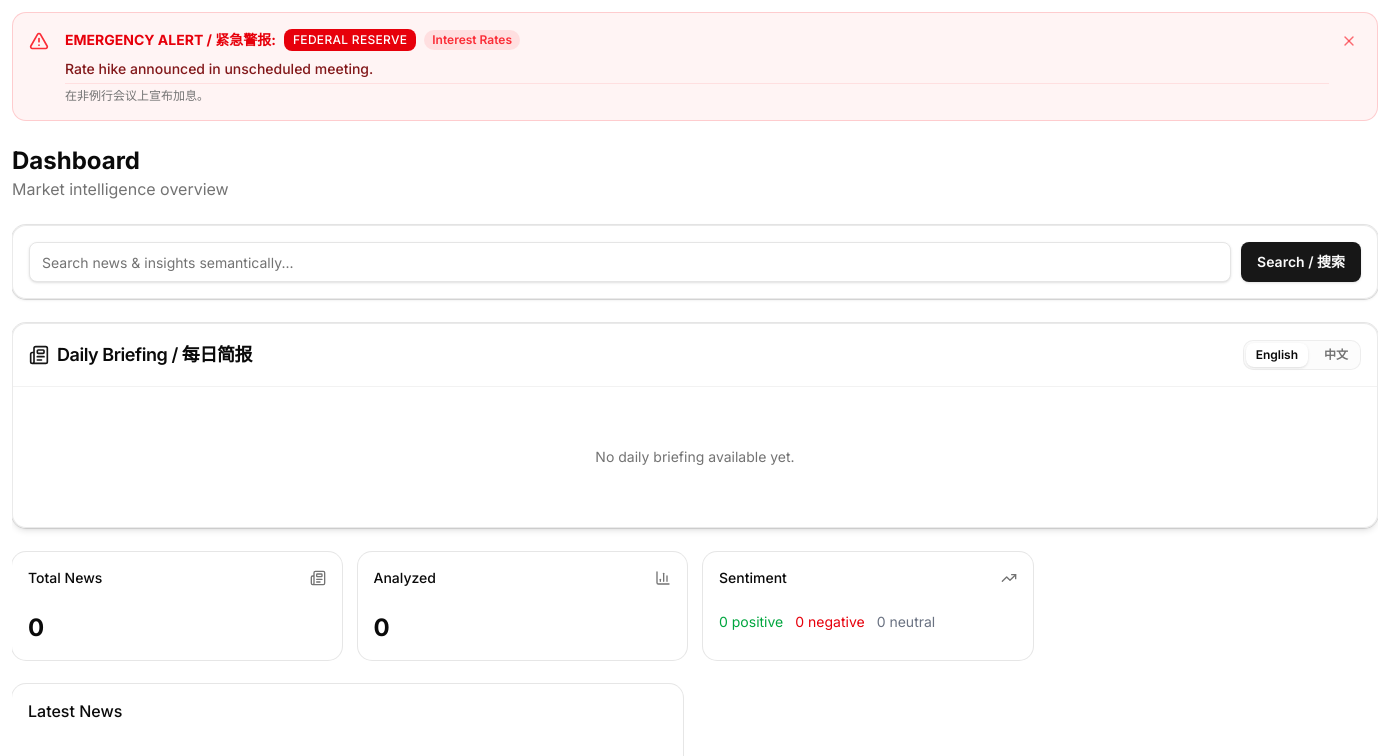
Test: Dashboard Page - Slice 1 (Emergency Alerts) › renders the emergency alerts banner when active alerts are present and handles dismissal
expect the text "Federal Reserve" is shown: met, box top-left (284, 29), bottom-right (416, 51)
expect the text "Interest Rates" is shown: met, box top-left (424, 30), bottom-right (520, 50)
Click the button named "dismiss-alert-alert-1": [1349, 41] box top-left (1337, 29), bottom-right (1361, 53)
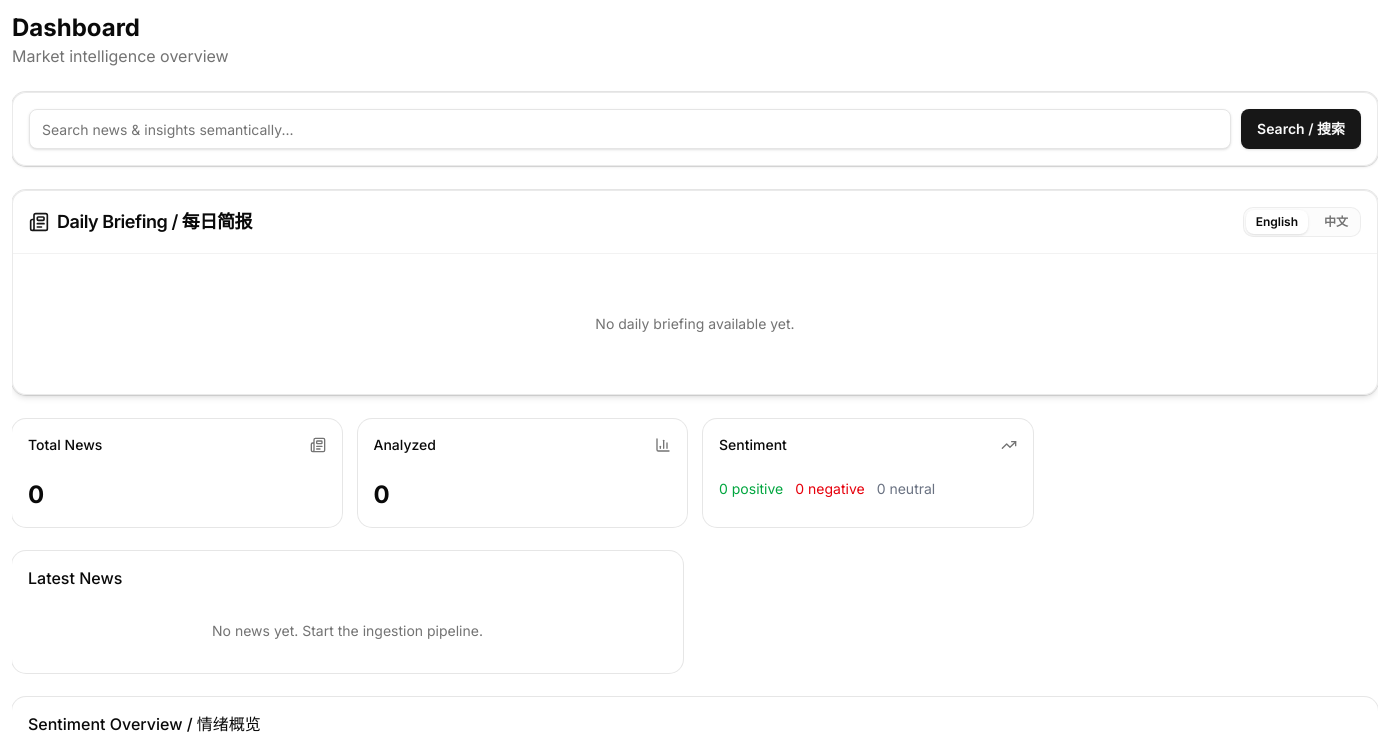
expect the text "Federal Reserve" is gone: met
